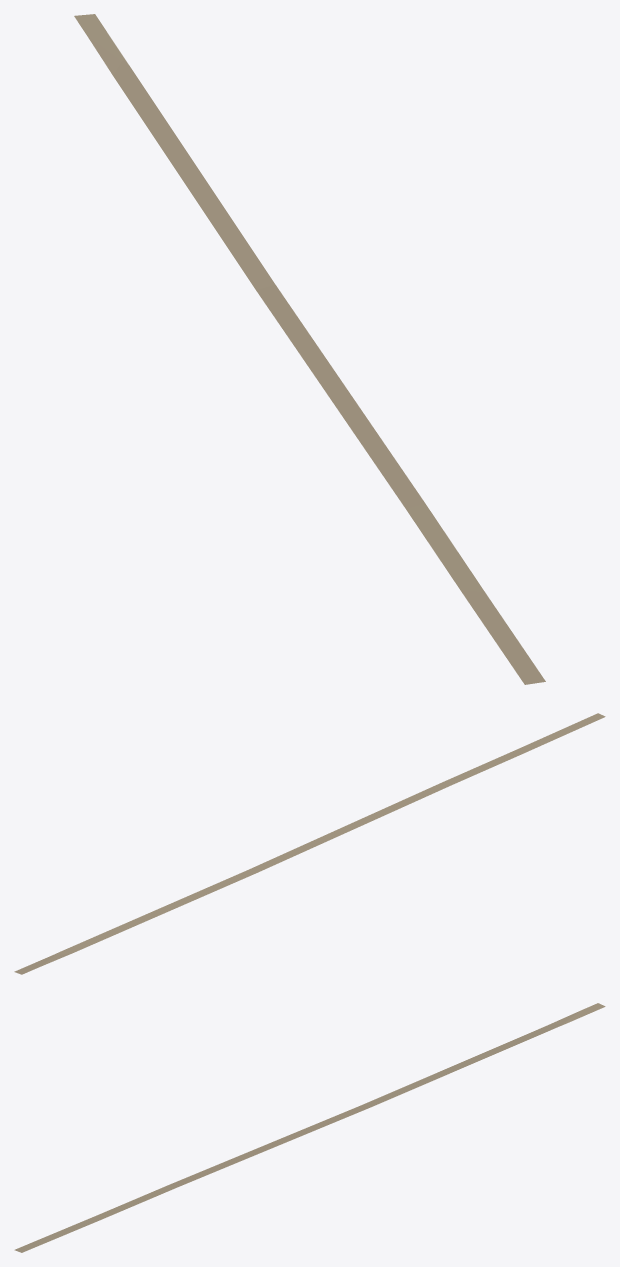
Rendered from farm_12_21_track.glb.
3 renders of one model, top to bottom at view 1: azimuth 30°, elevation 25°; view 2: azimuth 150°, elevation 25°; view 3: azimuth 330°, elevation 25°, orthographic. The views are drawn at different scales.
Parts seen in each view (by area): view 1: geometry_0; view 2: geometry_0; view 3: geometry_0.
Part boxes in pixels (<box>): geometry_0: <box>74,14,545,684</box>; geometry_0: <box>14,713,605,974</box>; geometry_0: <box>14,1003,605,1252</box>.
Size of the model in its own units: 64.8 by 2.08 by 242.
